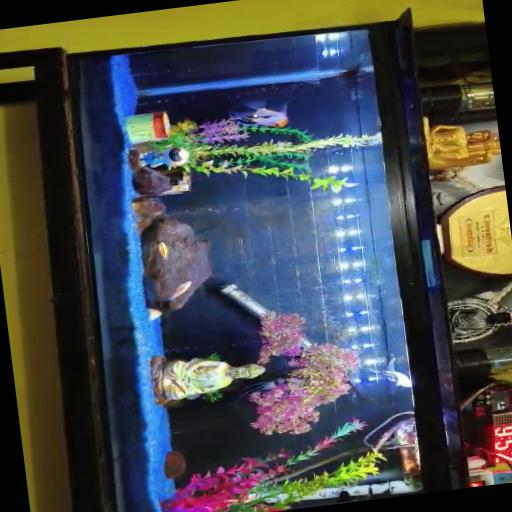Fish: (230, 102, 288, 128), (234, 379, 282, 408), (371, 358, 411, 388), (164, 281, 191, 301), (368, 257, 383, 287), (157, 242, 167, 257)
